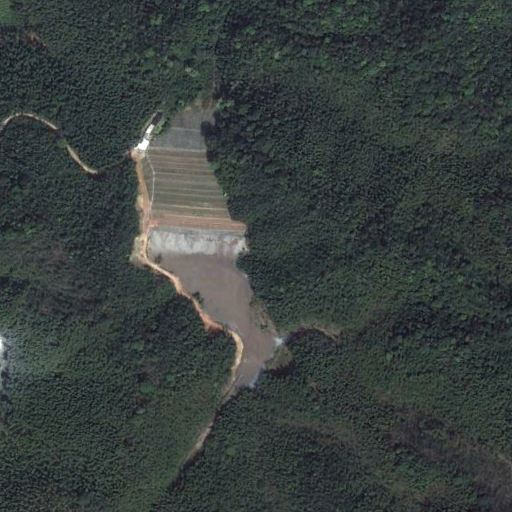tp: (141, 106, 281, 402)
